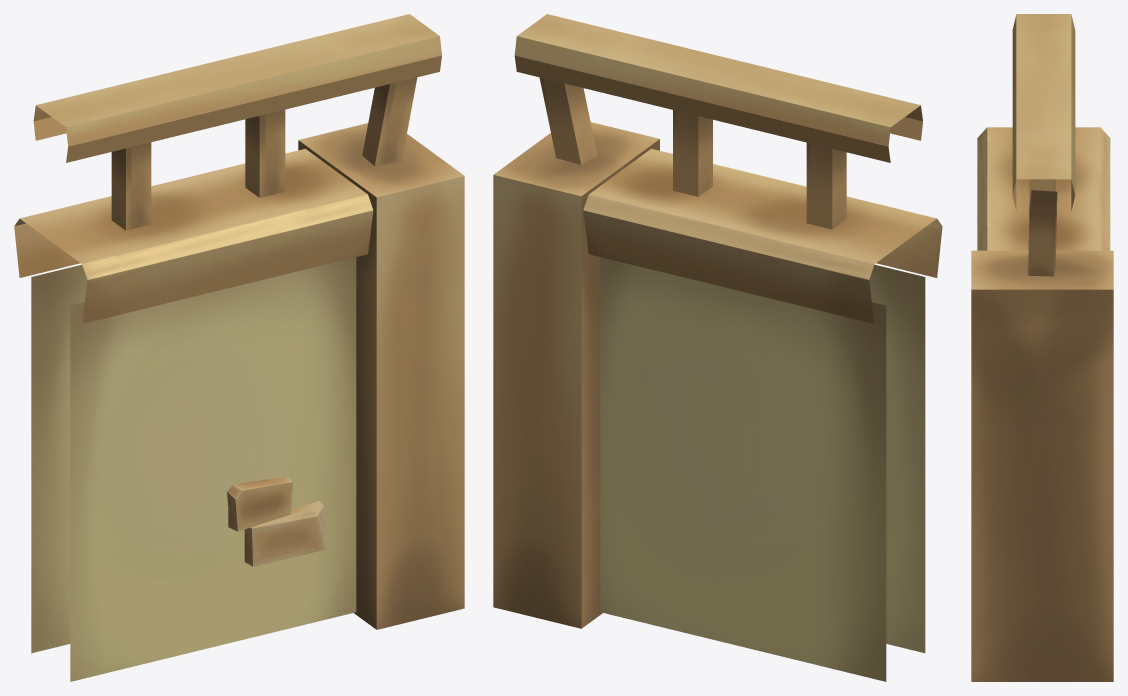
File: Gincana_Wall_04_1.fbx
The picture shows the model from 3 angles, left to right: view 1: azimuth 30°, elevation 25°; view 2: azimuth 150°, elevation 25°; view 3: azimuth 270°, elevation 25°; orthographic projection. The views are drawn at different scales.
Parts seen in each view (by area): view 1: Gincana_Wall_04.1; view 2: Gincana_Wall_04.1; view 3: Gincana_Wall_04.1.
Boxes of the visible parts, x1=… form: Gincana_Wall_04.1: x1=14, y1=14, x2=464, y2=681; Gincana_Wall_04.1: x1=493, y1=14, x2=942, y2=681; Gincana_Wall_04.1: x1=971, y1=14, x2=1113, y2=681.
Size of the model in its own units: 520 by 736 by 189.
Materials: 1 (1 with a texture image).
